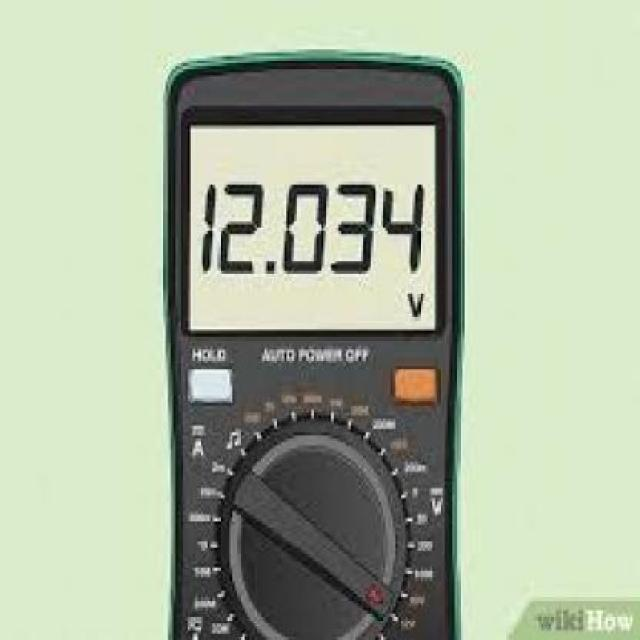display: (189, 125, 436, 330)
frame: (198, 177, 428, 278)
gauge: (162, 49, 466, 640)
